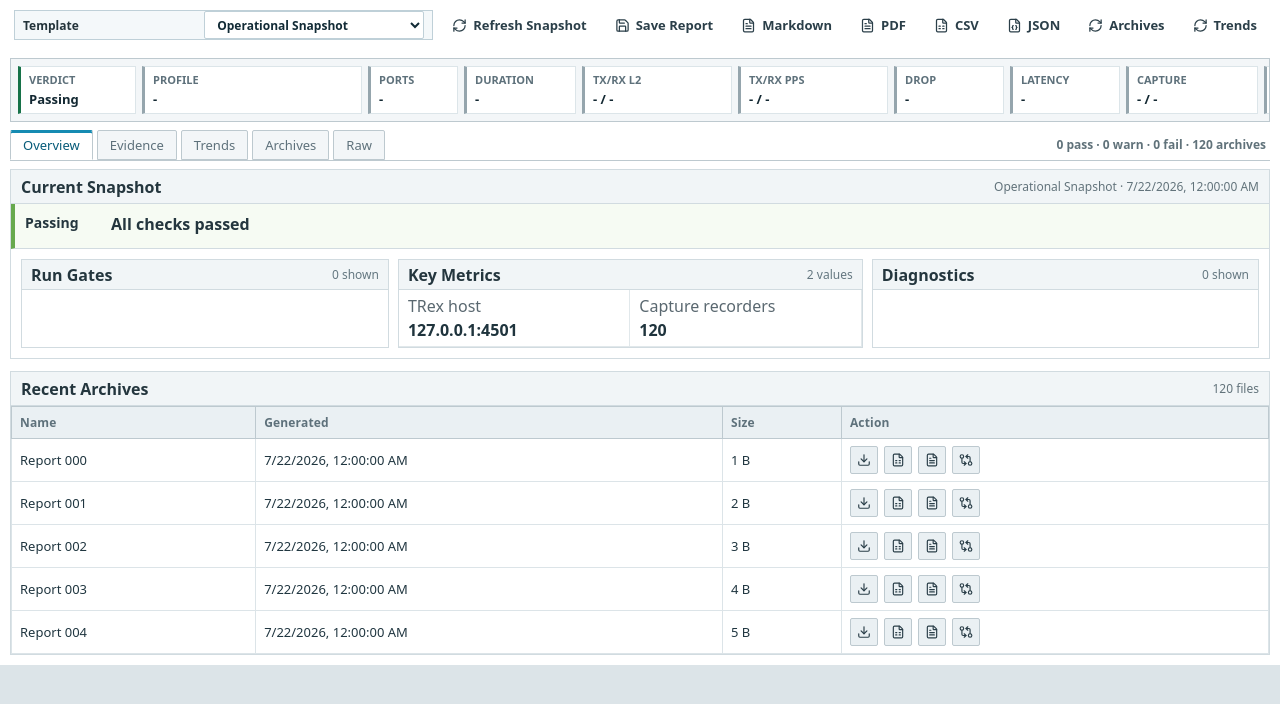
Test: RunReportsWorkspace › searches the full report archive and resets archive pagination
The width and height of the screenshot is (1280, 704).
Click the tab "Archives" at (291, 145), box [252,130,329,160]
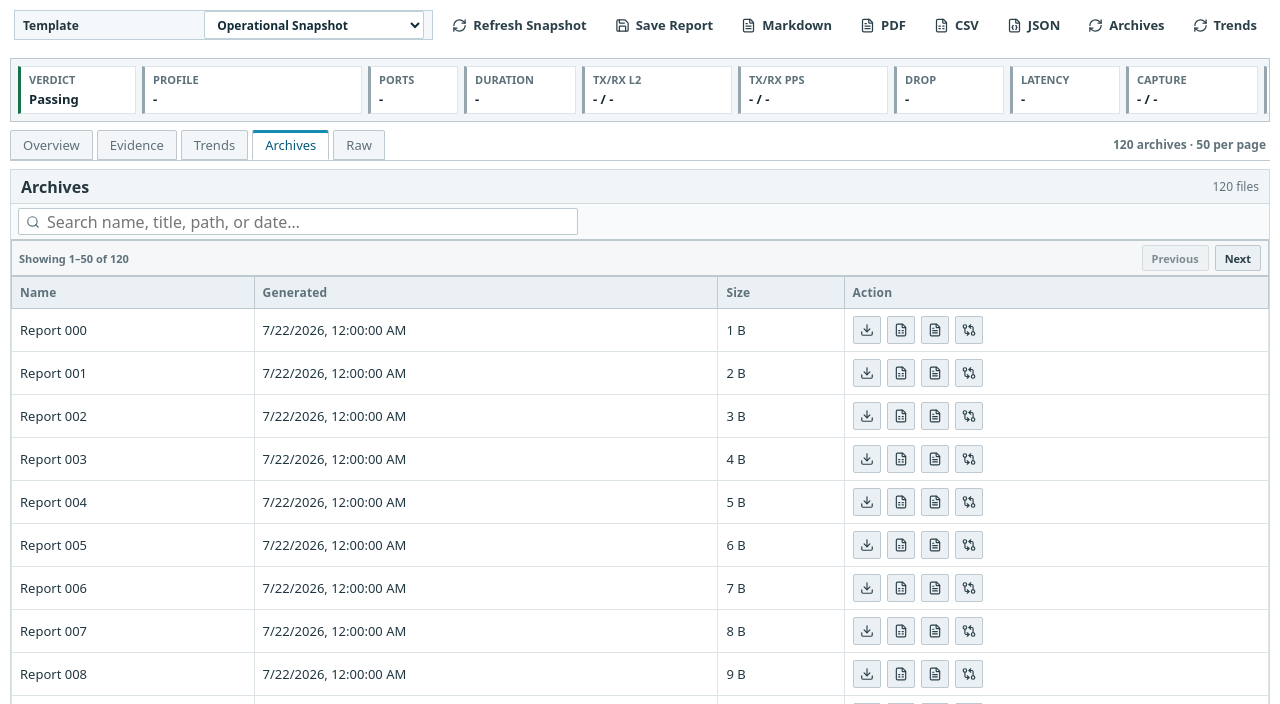
Click the button "Next" at (1238, 258), box [1215,245,1261,271]
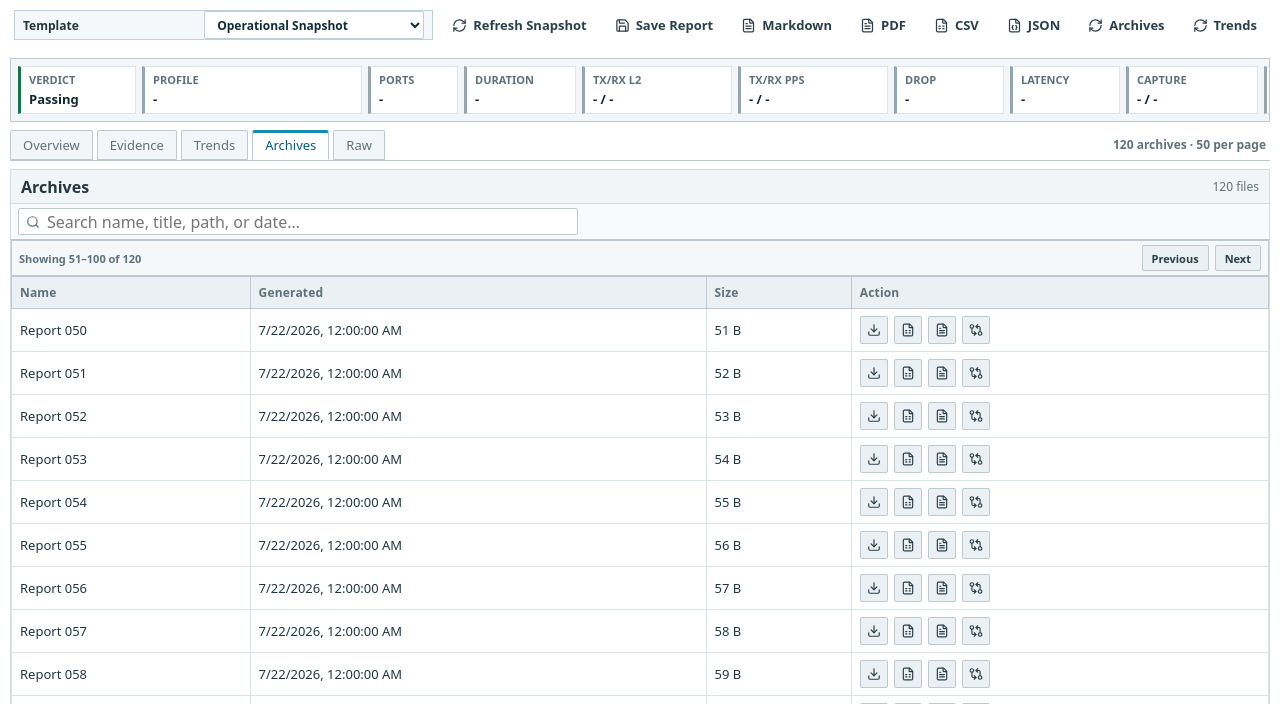
Now the text "Showing 51–100 of 120" is shown, box [19,250,141,266]
Type "report-075" into the search field named "Search report archives" at (298, 222), box [18,208,578,235]
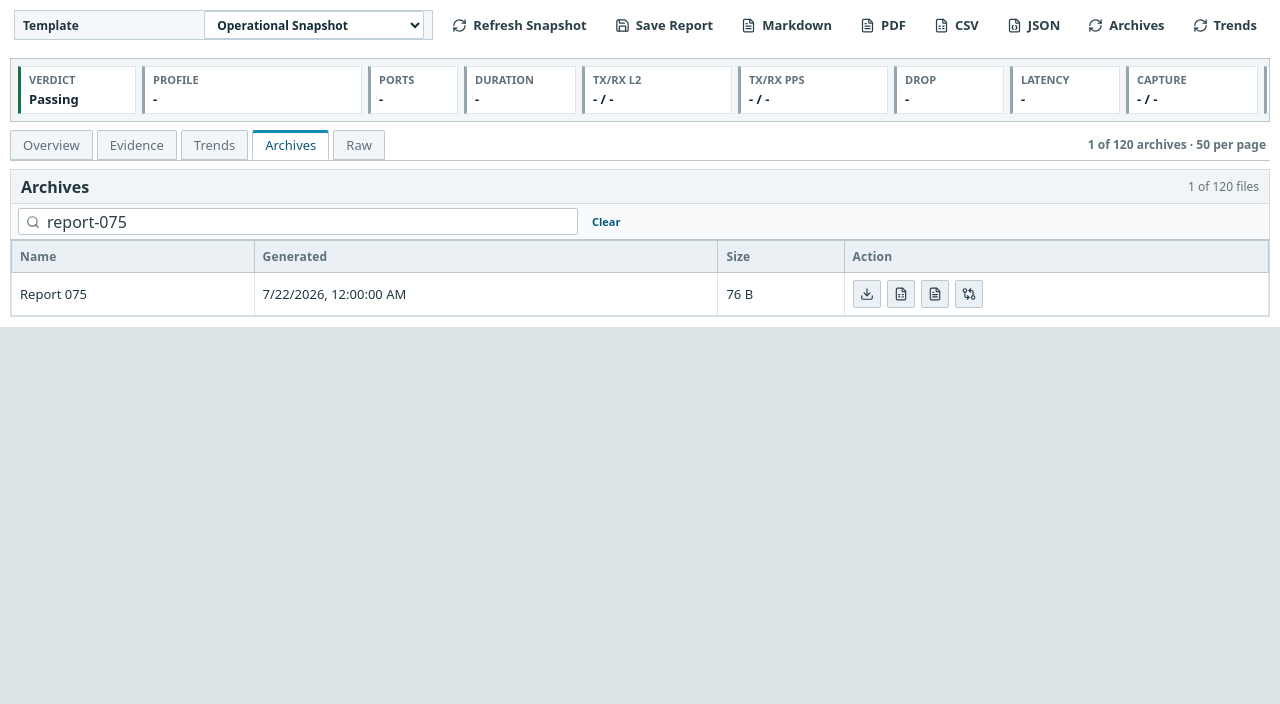
Now the button named "Download JSON report-075.json" is shown, box [853,280,881,308]
Now the text "1 of 120 files" is shown, box [1188,178,1259,195]
Replace the text in the search field named "Search report archives" with "missing archive" at (298, 222), box [18,208,578,235]
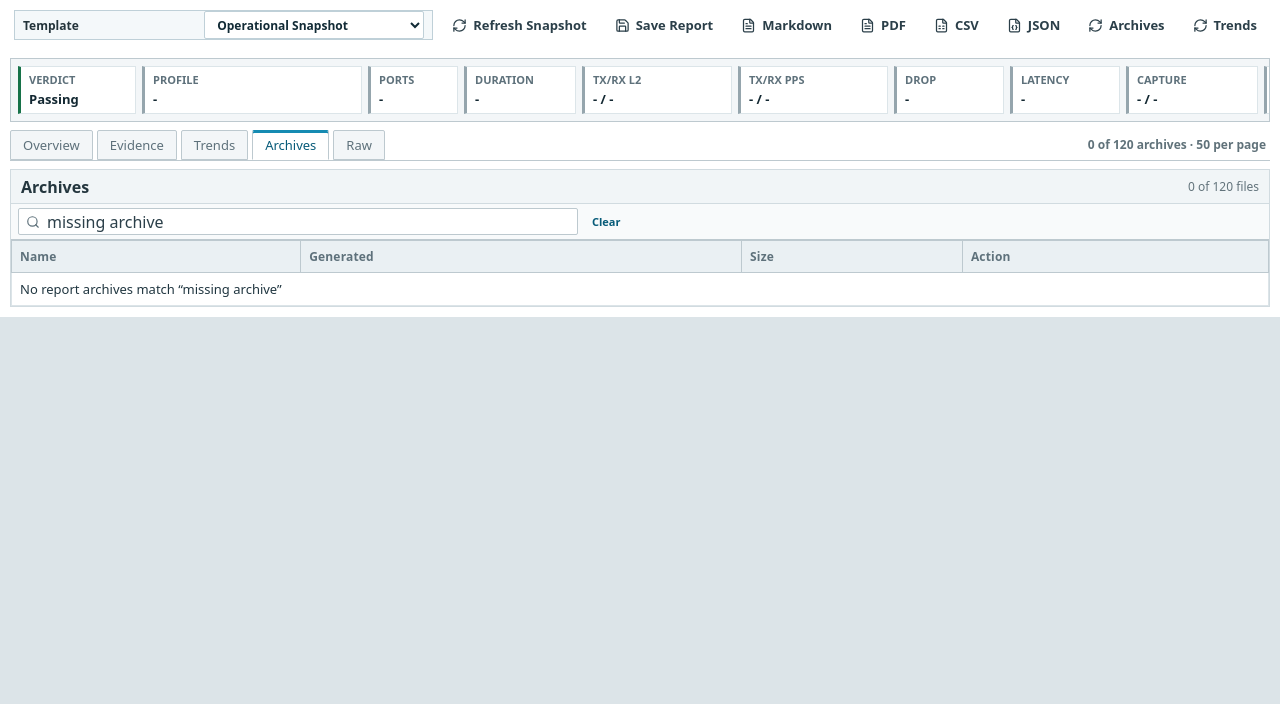
Now the text "No report archives match “missing archive”" is shown, box [12,272,1268,306]
Press Escape in the search field named "Search report archives", box [18,208,578,235]
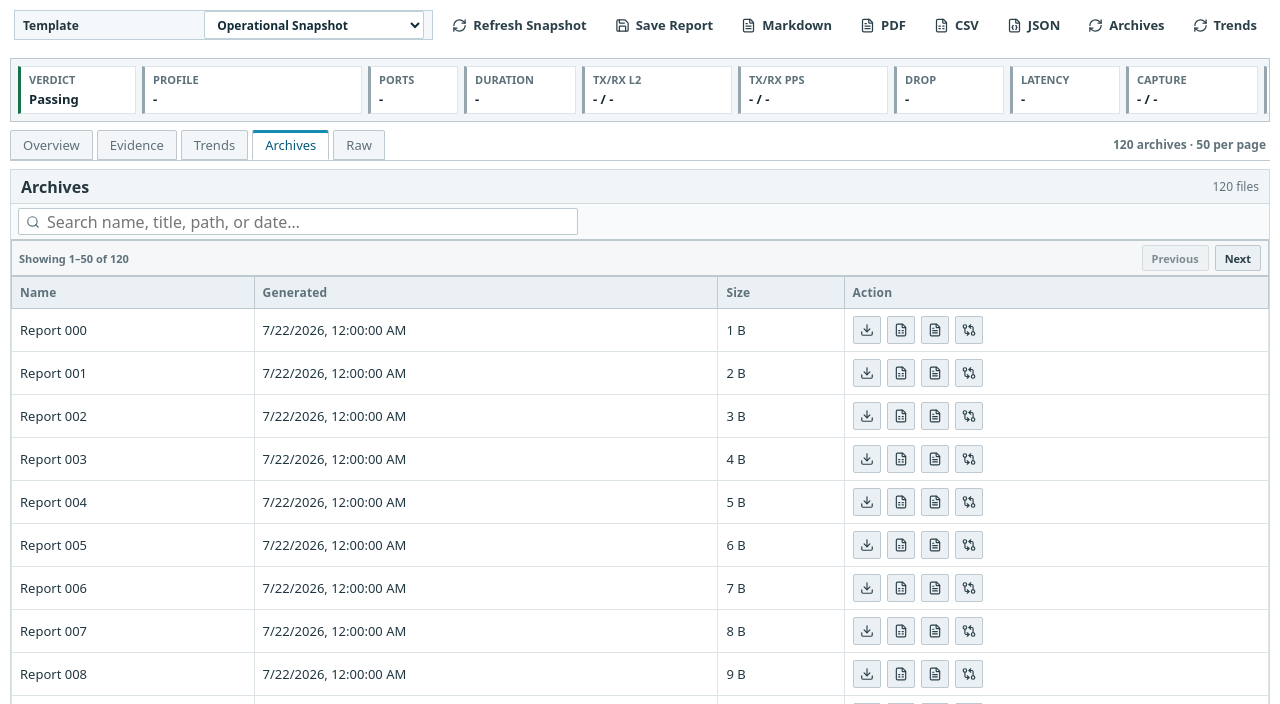
Now the search field named "Search report archives" is empty, box [18,208,578,235]
Now the element named "Report archive pages" shows "Showing 1–50 of 120", box [11,240,1269,276]
